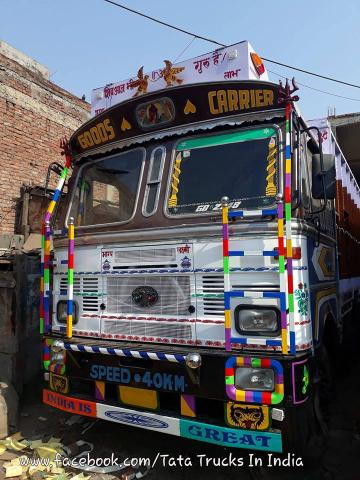truck: (21, 34, 360, 466)
